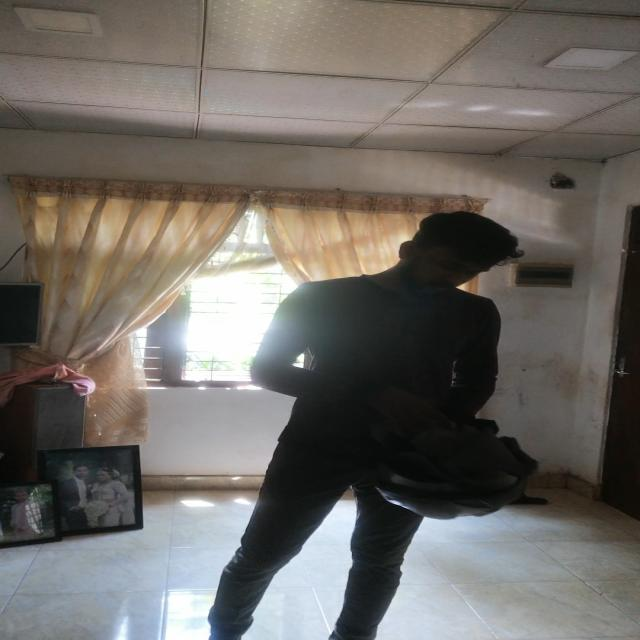Person: (255, 202, 520, 640)
